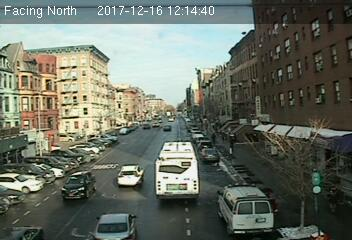bus: (154, 140, 200, 201)
car: (62, 172, 96, 200), (116, 163, 145, 187), (201, 146, 218, 163)
police: (216, 181, 274, 234)
